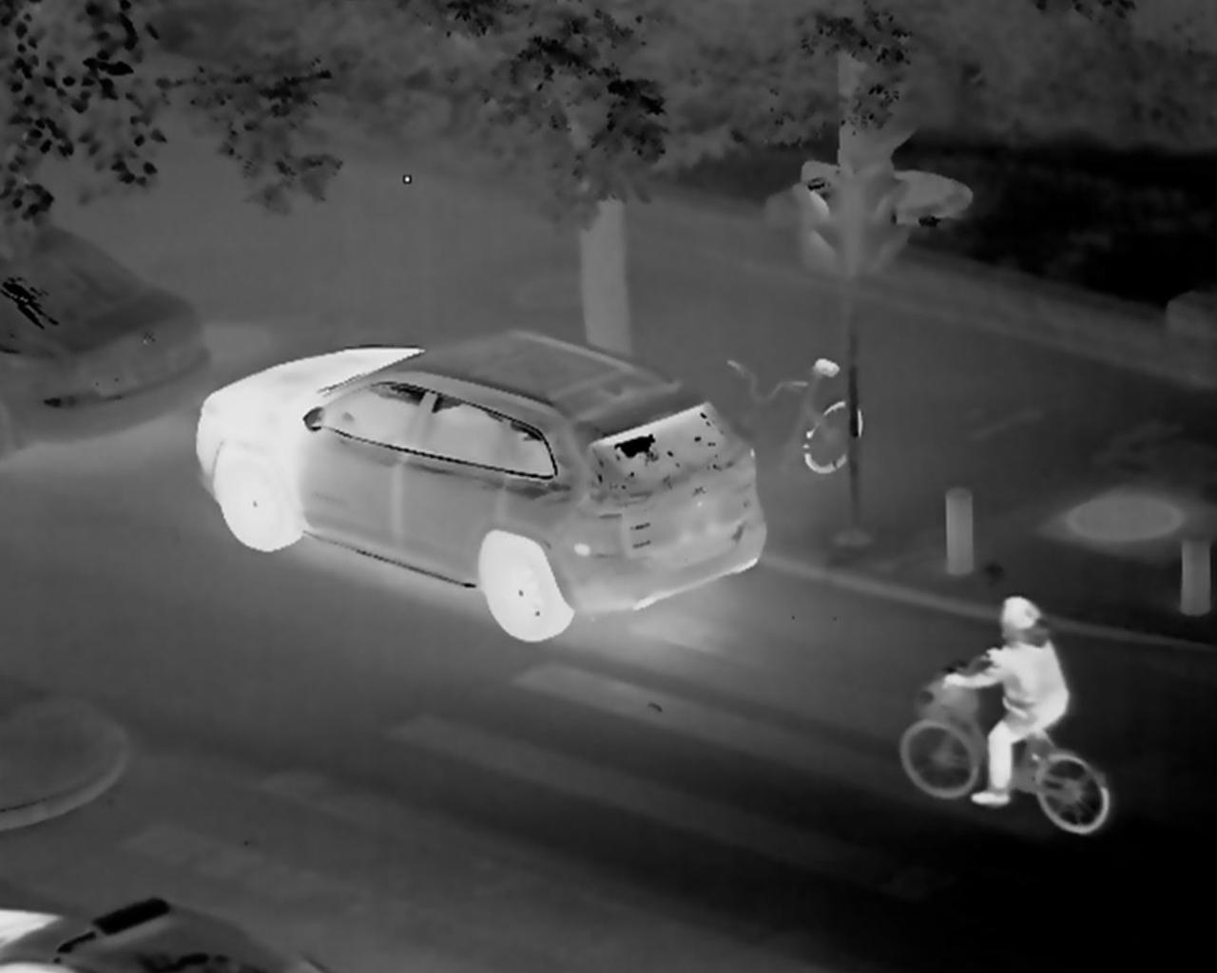person: (943, 594, 1071, 807)
